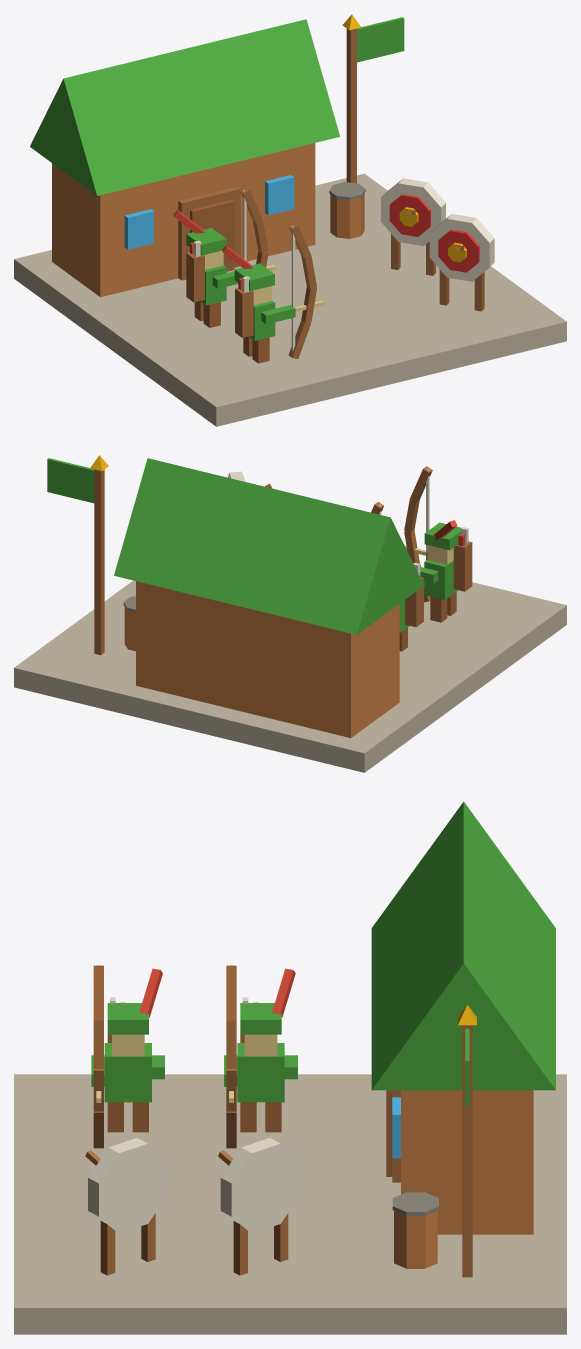
File: archery_range_t2_v1.glb
3 renders of one model, top to bottom at view 1: azimuth 30°, elevation 25°; view 2: azimuth 150°, elevation 25°; view 3: azimuth 270°, elevation 25°, orthographic. The views are drawn at different scales.
Visible parts, largest first — view 1: archery_range_t2_v1; view 2: archery_range_t2_v1; view 3: archery_range_t2_v1.
Part boxes in pixels (x1,y1,x2,y2): archery_range_t2_v1: [14, 14, 566, 426]; archery_range_t2_v1: [14, 455, 566, 772]; archery_range_t2_v1: [14, 801, 566, 1334].
Size of the model in its own units: 0.755 by 0.46 by 0.75.
Materials: 1 (1 with a texture image).
